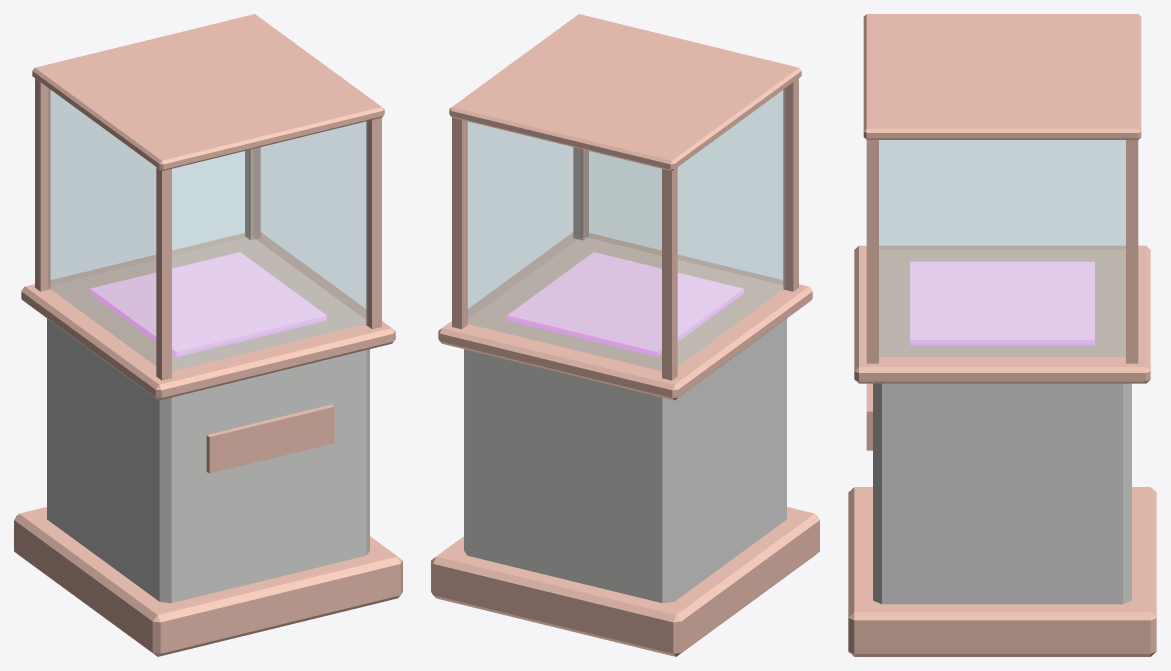
File: lt_trophy_ag.glb
3 renders of one model, left to right at view 1: azimuth 30°, elevation 25°; view 2: azimuth 150°, elevation 25°; view 3: azimuth 270°, elevation 25°, orthographic. The views are drawn at different scales.
Visible parts, largest first — view 1: lt_trophy_ag; view 2: lt_trophy_ag; view 3: lt_trophy_ag.
Part boxes in pixels (<box>): lt_trophy_ag: <box>14,14,402,656</box>; lt_trophy_ag: <box>431,14,819,656</box>; lt_trophy_ag: <box>848,14,1156,656</box>.
Size of the model in its own units: 1 by 1.87 by 1.
